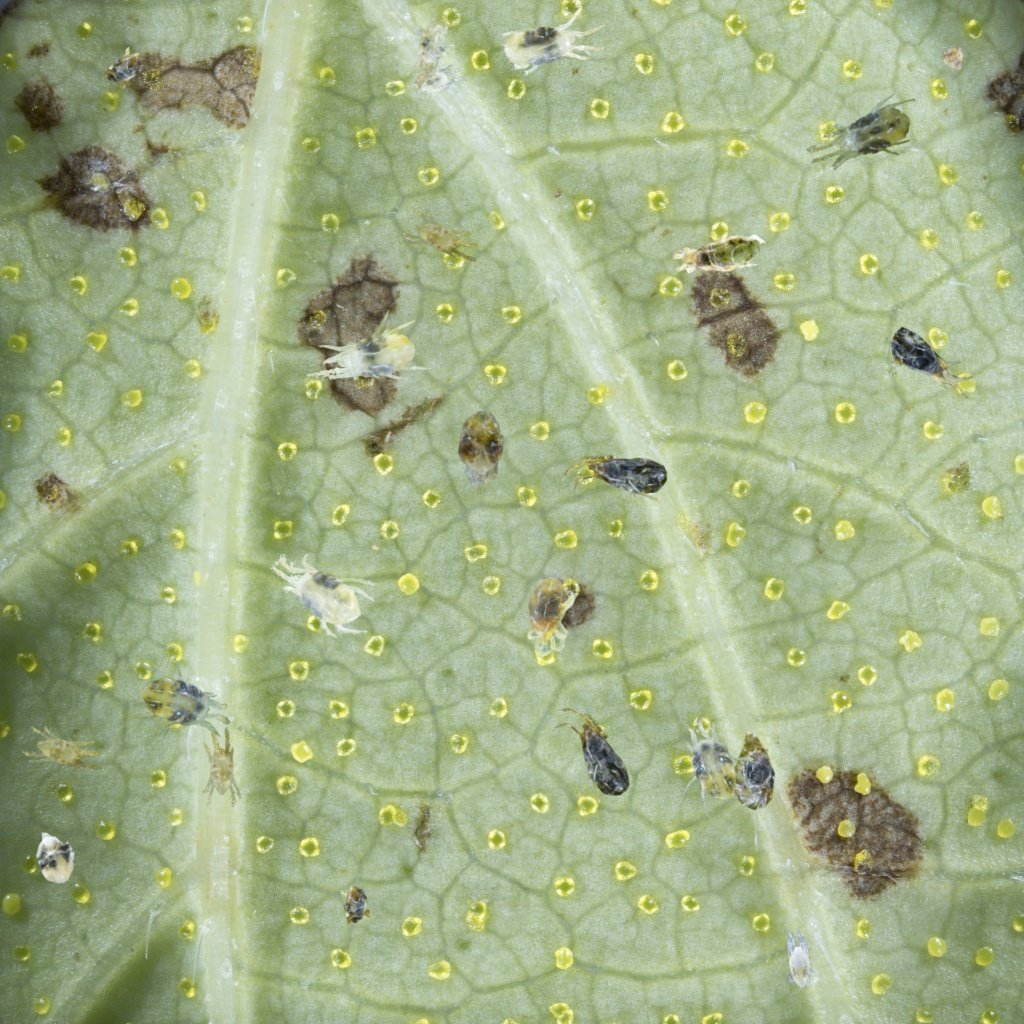Adult_female: (263, 519, 398, 656), (796, 82, 936, 199), (115, 641, 247, 764), (657, 705, 767, 823), (305, 304, 438, 388), (496, 1, 612, 83)
Adult_male: (383, 9, 469, 94), (396, 204, 485, 263), (189, 727, 247, 814), (406, 47, 471, 111), (21, 724, 105, 771), (782, 926, 818, 990)
Dead_mite: (530, 696, 644, 815), (876, 309, 983, 426), (668, 215, 773, 297), (708, 728, 797, 817), (559, 449, 670, 517), (511, 570, 591, 660), (443, 405, 522, 494), (102, 44, 149, 92), (34, 832, 76, 885), (340, 882, 372, 925), (940, 42, 968, 72)
